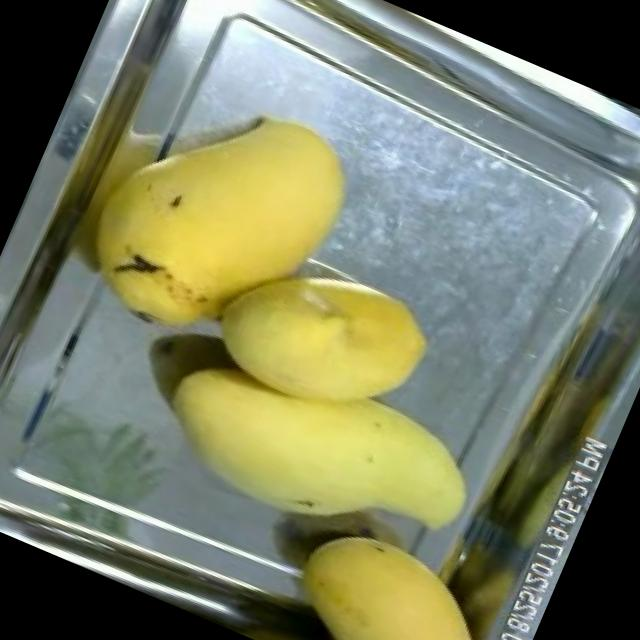fruit: (126, 290, 511, 598), (57, 44, 387, 367), (176, 212, 456, 462), (261, 504, 520, 640)
